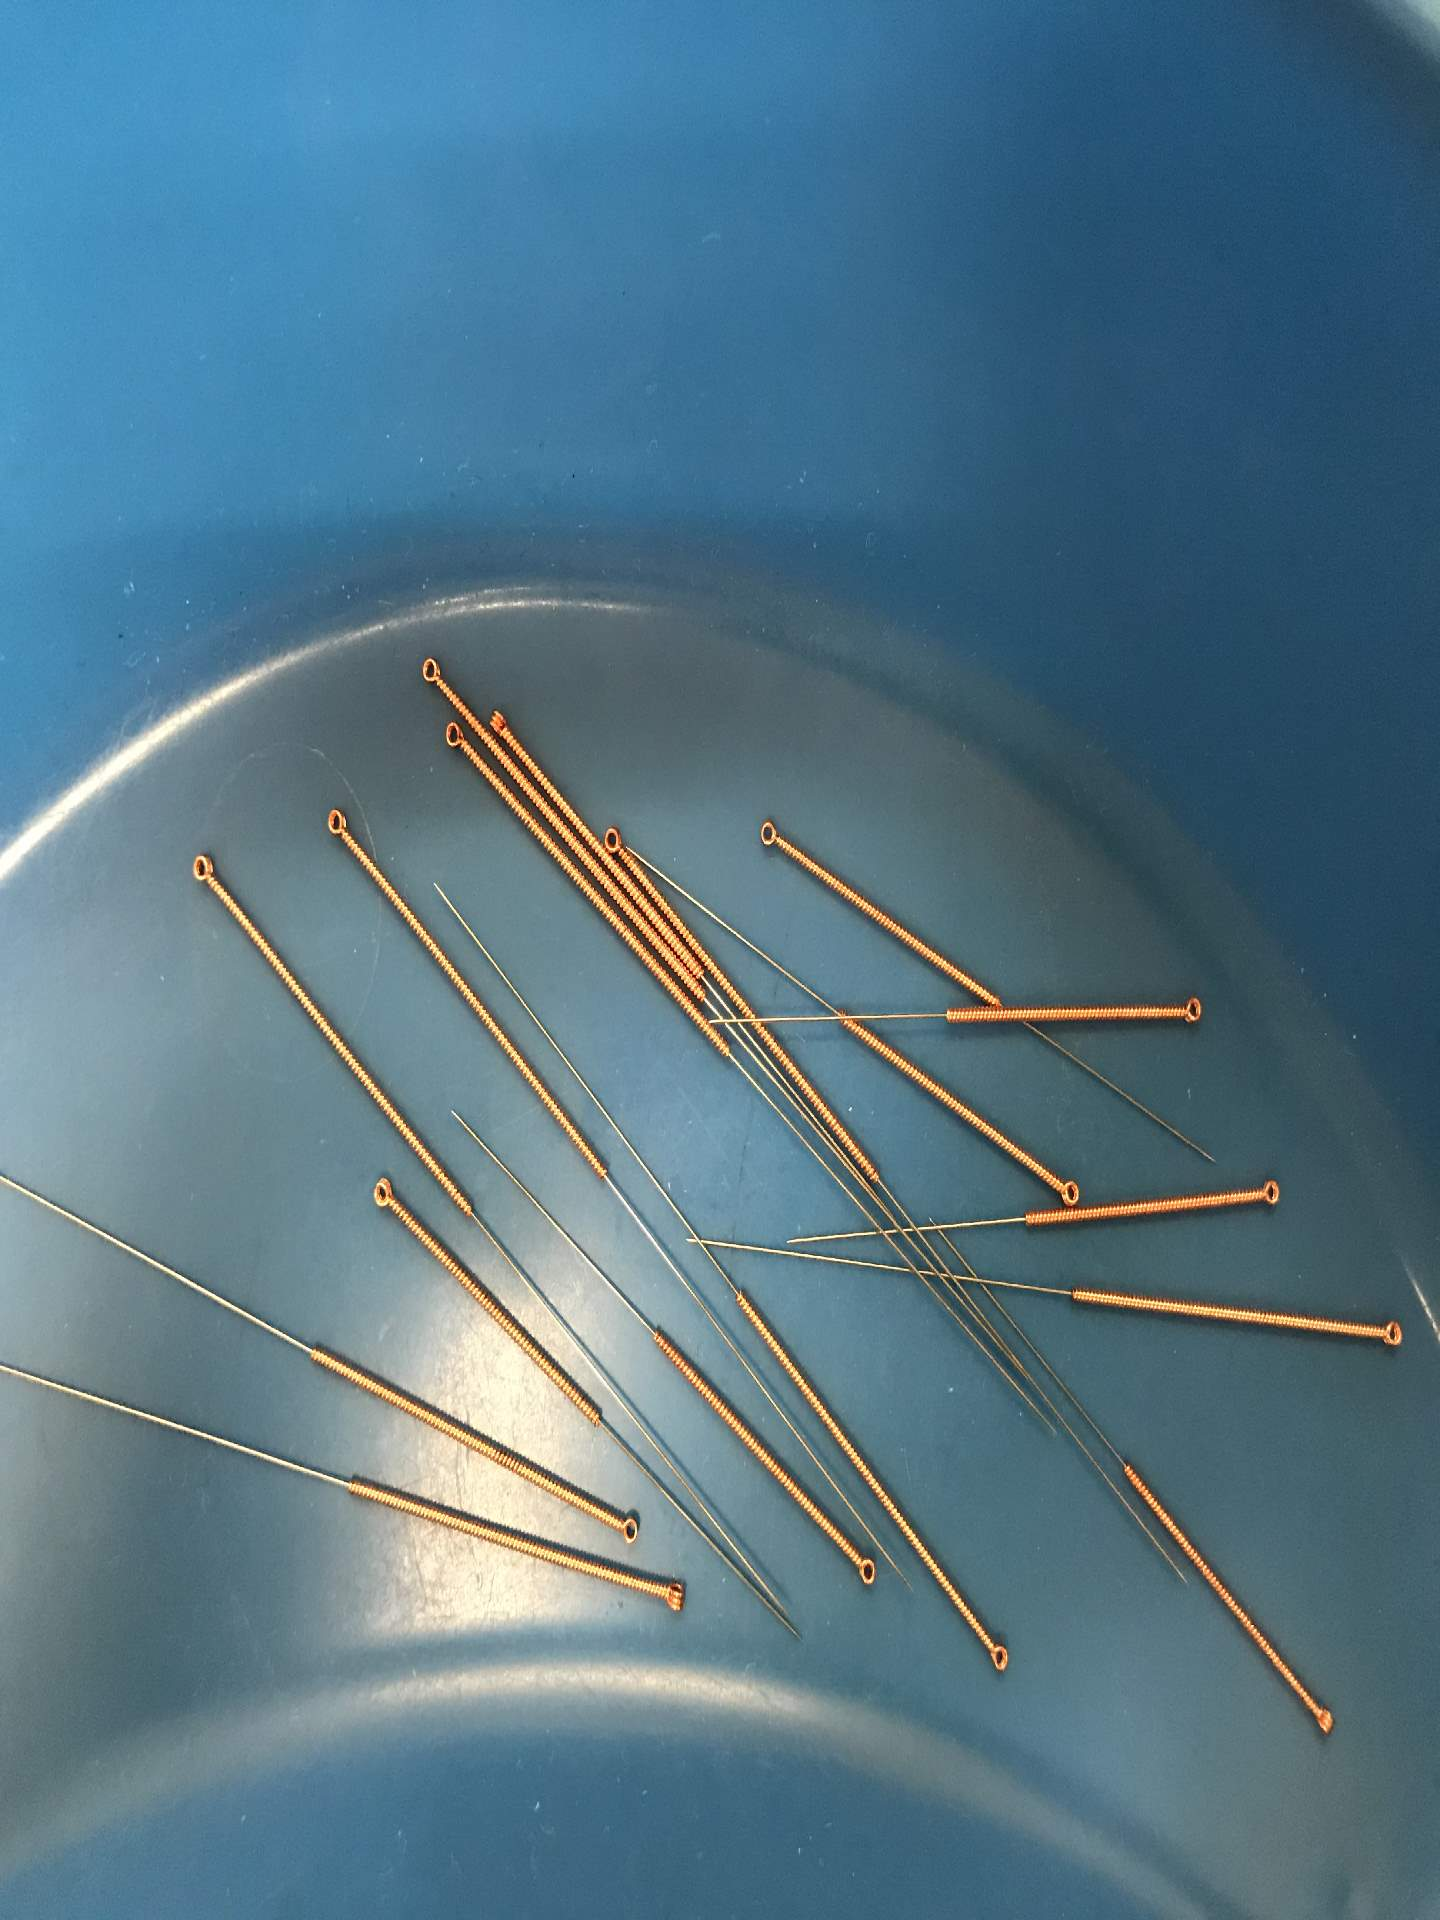needle: (643, 1568, 706, 1627), (971, 1627, 1026, 1686), (1239, 1169, 1296, 1222), (594, 1506, 656, 1554), (836, 1544, 892, 1596), (178, 841, 228, 898), (1363, 1309, 1414, 1364), (1299, 1695, 1348, 1751), (360, 1163, 402, 1222), (315, 795, 358, 851), (1165, 987, 1215, 1036), (747, 812, 796, 862), (408, 644, 452, 698), (1047, 1166, 1086, 1212), (436, 717, 470, 754), (487, 698, 514, 739), (601, 821, 629, 859)
